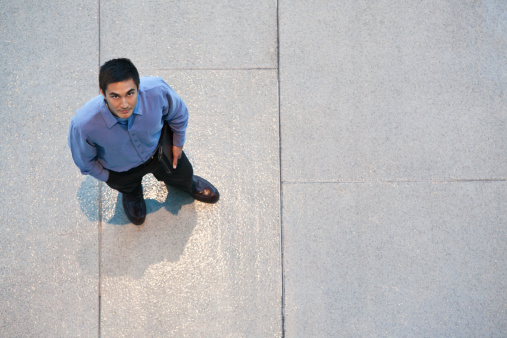em pe: (62, 64, 217, 239)
